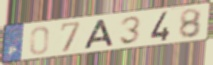0: (28, 25, 50, 56)
3: (119, 15, 142, 45)
4: (149, 10, 171, 43)
7: (60, 20, 83, 54)
8: (177, 8, 202, 39)
A: (83, 18, 116, 51)
